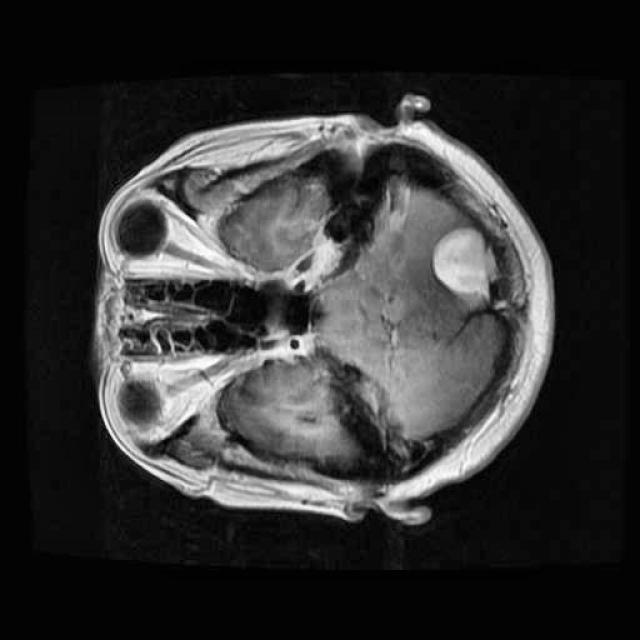Tumor: (422, 214, 509, 311)
